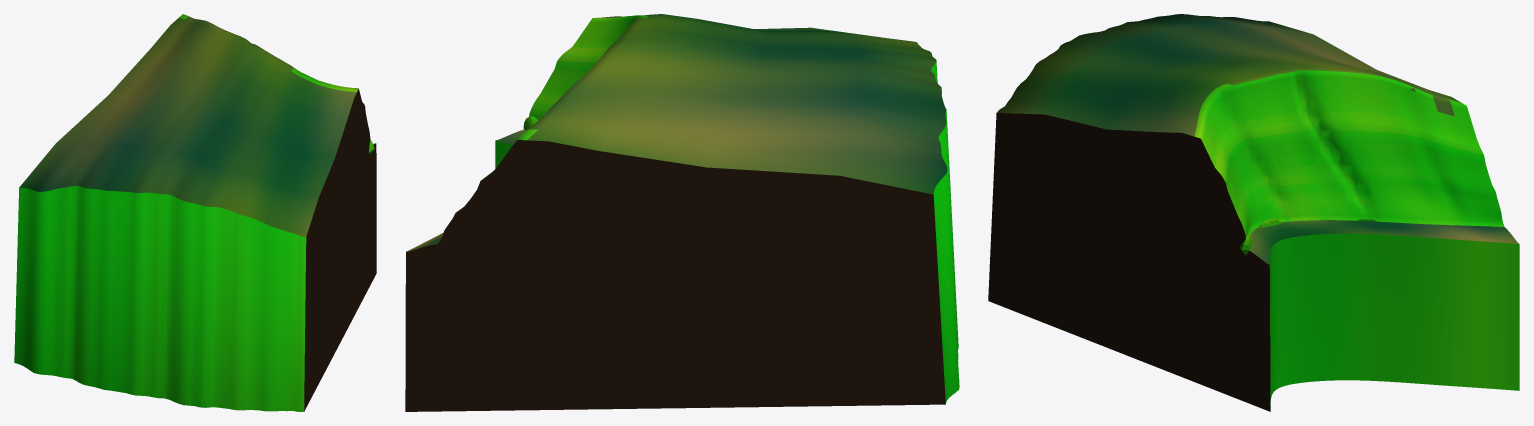
Rendered from SM_ForestRisingCliffs_05.fbx.
3 views of the same model, side by side, from view 1: azimuth 30°, elevation 25°; view 2: azimuth 150°, elevation 25°; view 3: azimuth 270°, elevation 25° (orthographic). The views are drawn at different scales.
Visible parts, largest first — view 1: SM_ForestRisingCliffs_05; view 2: SM_ForestRisingCliffs_05; view 3: SM_ForestRisingCliffs_05.
Part boxes in pixels (x1,y1,x2,y2): SM_ForestRisingCliffs_05: (14,14,376,411); SM_ForestRisingCliffs_05: (405,14,959,411); SM_ForestRisingCliffs_05: (988,14,1519,411).
Bounding box in the file's own units: 71.97 × 80.86 × 46.92.
